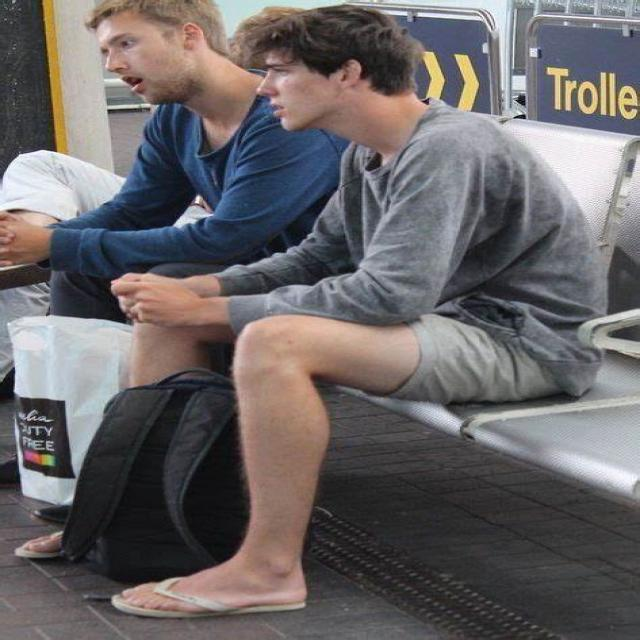No_BreathingApparatus: (242, 47, 344, 131), (94, 22, 192, 101), (0, 204, 54, 269), (95, 28, 164, 78)
No_Glove: (105, 264, 232, 333)
No_Goggles: (98, 33, 163, 56)
No_Helmet: (239, 2, 418, 65), (87, 0, 209, 34)
No_Shoe: (97, 560, 324, 632), (189, 559, 308, 615), (14, 524, 74, 566)
Person: (37, 0, 437, 624), (198, 11, 610, 597)
